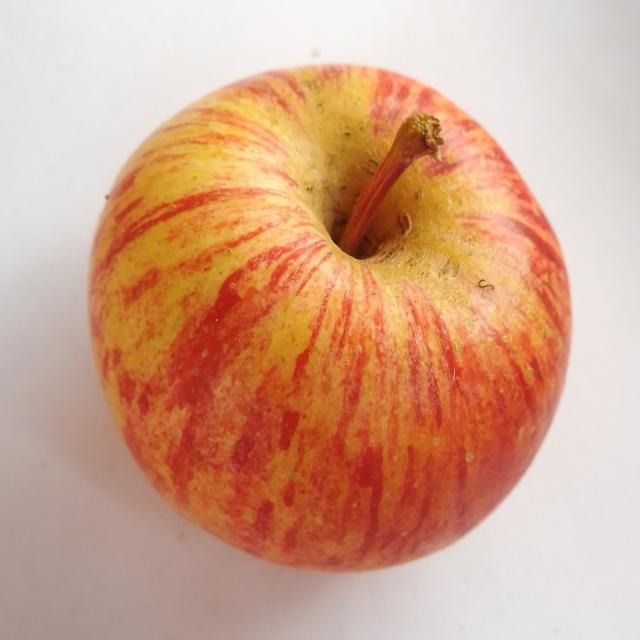Fresh Apple: (93, 75, 565, 557)
